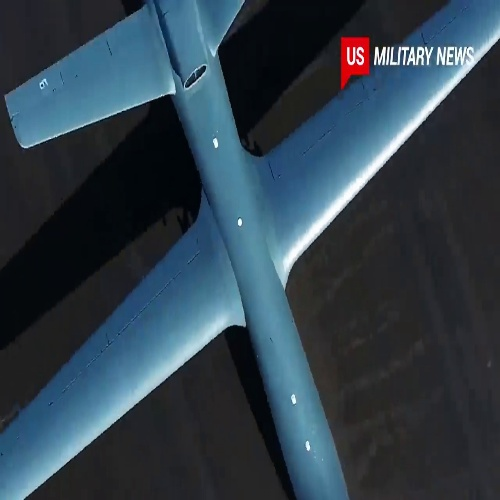uav: (4, 7, 499, 500)
